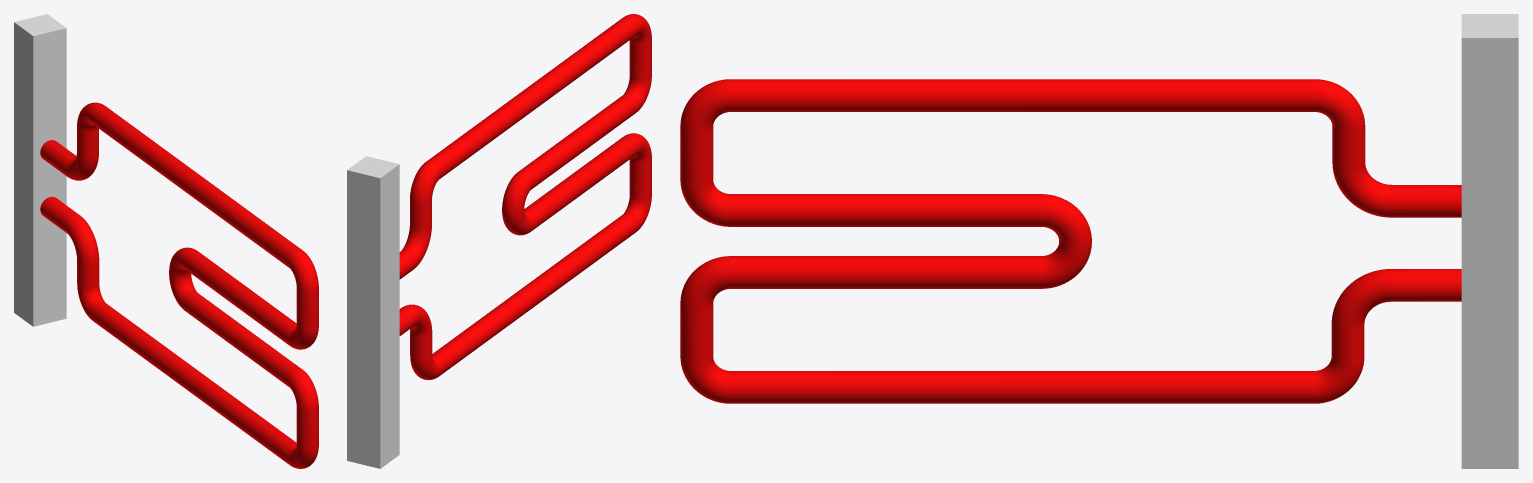
File: spiral.fbx
3 views of the same model, side by side, from view 1: azimuth 30°, elevation 25°; view 2: azimuth 150°, elevation 25°; view 3: azimuth 270°, elevation 25° (orthographic). The views are drawn at different scales.
Visible parts, largest first — view 1: Sweep, Cube; view 2: Sweep, Cube; view 3: Sweep, Cube.
Boxes of the visible parts, x1,y1,x2,y2 form: Sweep: [40, 102, 318, 468]; Cube: [14, 14, 66, 326]; Sweep: [399, 14, 651, 380]; Cube: [347, 156, 399, 468]; Sweep: [680, 79, 1461, 403]; Cube: [1461, 14, 1518, 468].
Bounding box in the file's own units: 3 × 25 × 44.08.
